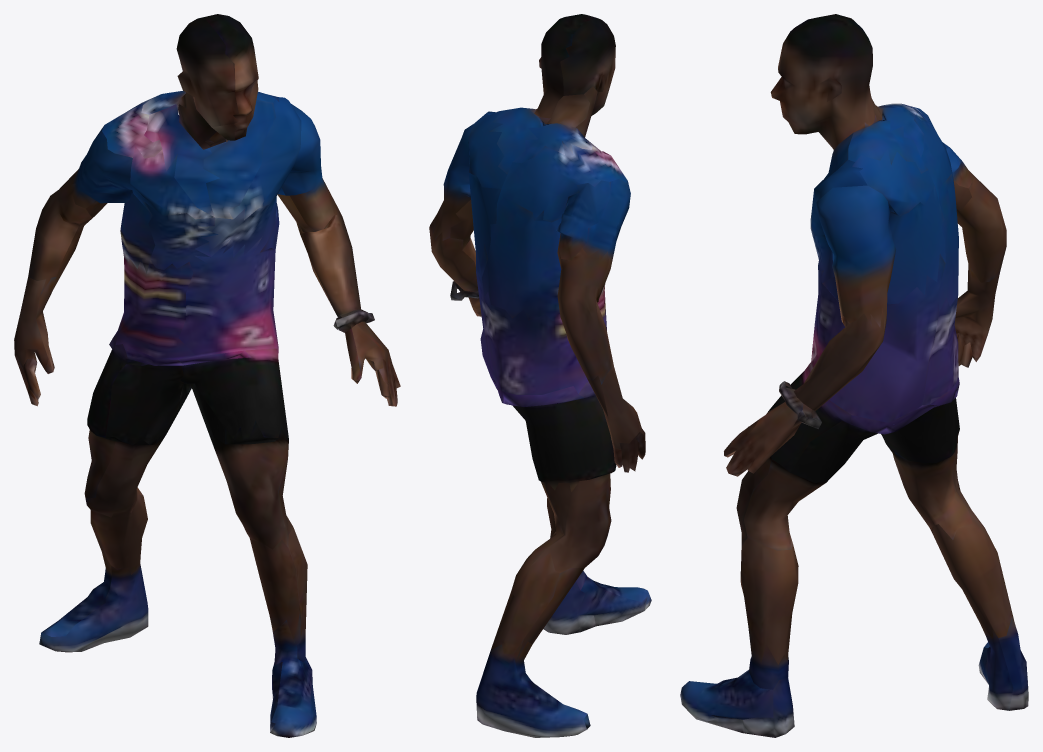
File: half_4_idle_lod2.glb
3 renders of one model, left to right at view 1: azimuth 30°, elevation 25°; view 2: azimuth 150°, elevation 25°; view 3: azimuth 270°, elevation 25°, orthographic. The views are drawn at different scales.
Visible parts, largest first — view 1: Idle; view 2: Idle; view 3: Idle.
Boxes of the visible parts, box(x1,y1,x2,y2) form: Idle: box(14, 14, 400, 737); Idle: box(429, 14, 651, 737); Idle: box(680, 14, 1028, 737).
Size of the model in its own units: 39.34 by 92.35 by 42.11.
Materials: 1 (1 with a texture image).
